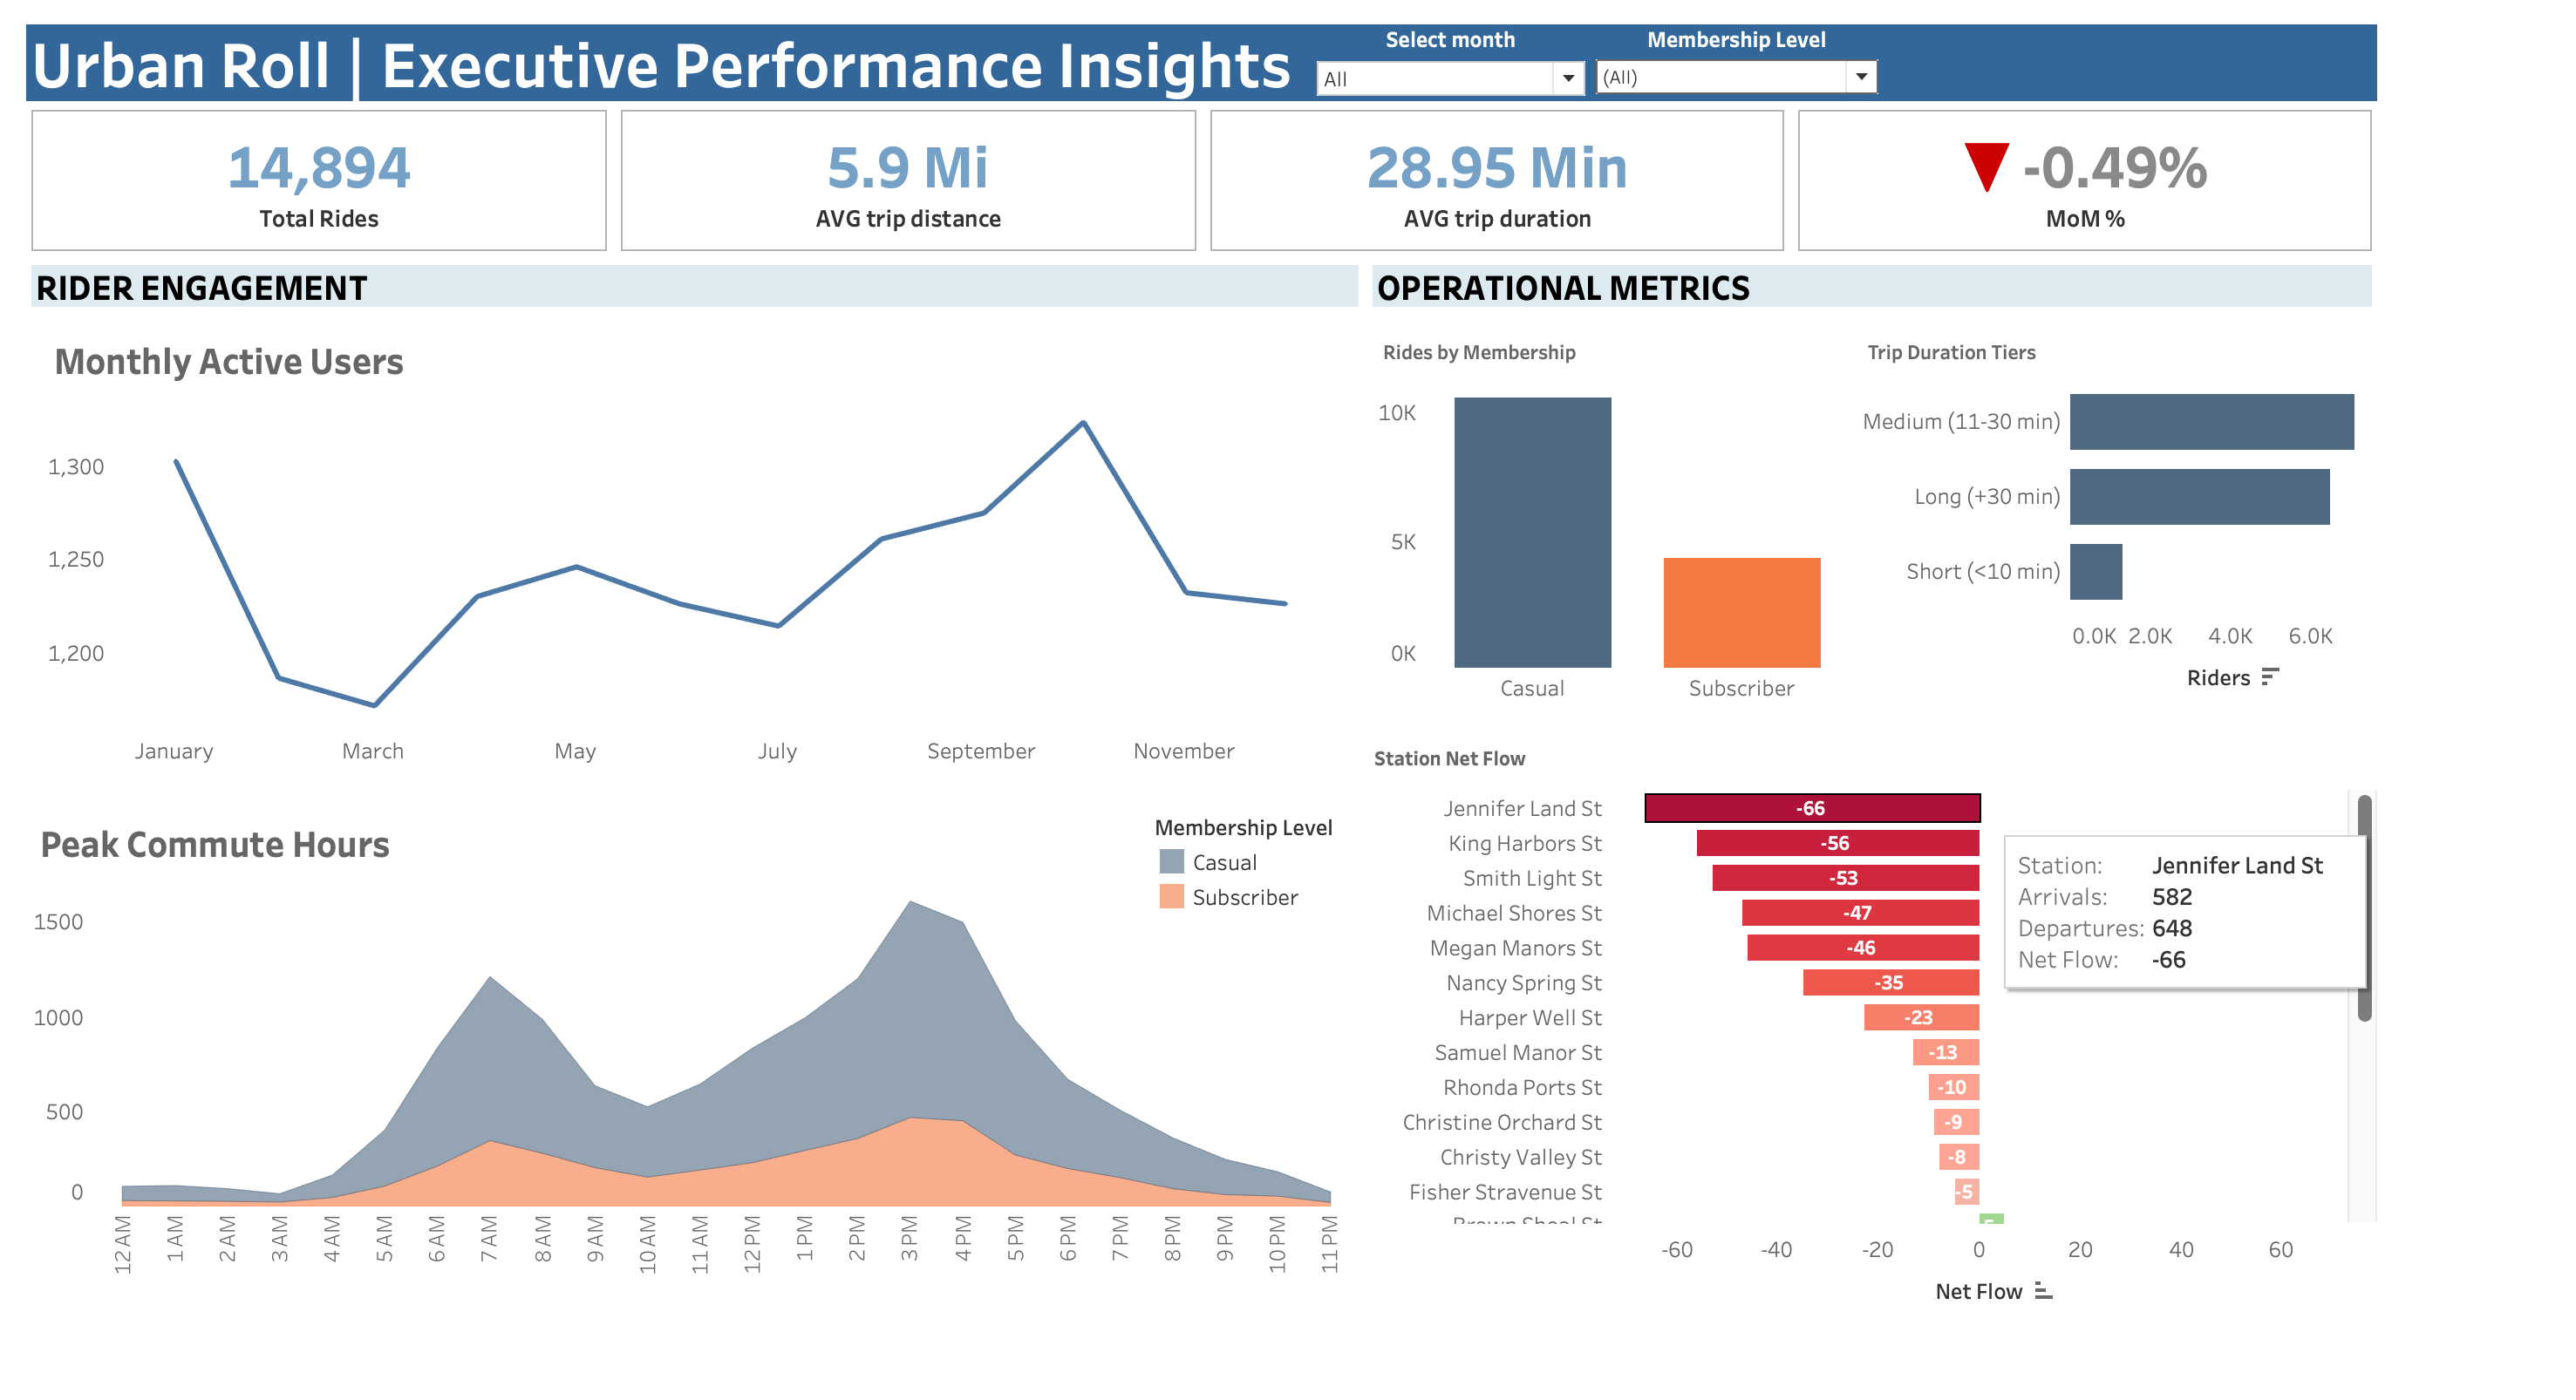

What the dashboard file says about the page in this screenshot:
{"tool":"tableau","page":{"name":"Dashboard 1","canvas":[1366,768],"ordinal":0},"visuals":[{"type":"text","box":[8,8,1350,46]},{"type":"parameter","param":"[Parameters].[Start Time Parameter]","box":[746,9,160,44]},{"type":"filter","title":"Rides by Membership","param":"[federated.0ieumqb0jvga1g113e7yd0zhxyhf].[none:membership_level:nk]","box":[906,9,168,43]},{"type":"worksheet","title":"KPI - Total Rides","mark":"Automatic","box":[8,54,338,89]},{"type":"worksheet","title":"KPI - Avg Distance ","mark":"Automatic","box":[346,54,338,89]},{"type":"worksheet","title":"KPI - Avg Duration","mark":"Automatic","box":[684,54,337,89]},{"type":"worksheet","title":"MoM %","mark":"Automatic","box":[1021,54,337,89]},{"type":"text","box":[8,142.9,769.2,32.3]},{"type":"text","box":[777.2,142.9,580.8,32.3]},{"type":"worksheet","title":"Monthly Active Users","mark":"Automatic","rows":["user_id"],"cols":["start_time"],"box":[9,176.2,767.2,276.4]},{"type":"worksheet","title":"Rides by Membership","mark":"Automatic","rows":["ride_id"],"cols":["membership_level"],"box":[779.2,177.2,278,233.8]},{"type":"worksheet","title":"Trip Duration Tiers","mark":"Automatic","rows":["Calculation_1544285127233537"],"cols":["user_id"],"box":[1057.2,177.2,298.8,233.8]},{"type":"worksheet","title":"Station Net Flow","mark":"Automatic","rows":["station_name"],"cols":["net_flow"],"box":[777.2,413,580.8,347]},{"type":"worksheet","title":"Peak Commute Hours","mark":"Area","rows":["ride_id"],"cols":["start_time"],"box":[9,452.6,767.2,306.4]},{"type":"legend","title":"Peak Commute Hours","param":"[federated.0ieumqb0jvga1g113e7yd0zhxyhf].[none:membership_level:nk]","box":[656,461,110,58]}]}

Visuals, with their boxes on the page's 1366x768 design canvas (x1, y1, x2, y2). These are canvas units, not pixel positions in the 2576x1400 screenshot, which may show the page scaled, cropped or inside an application window:
text: <region>8, 8, 1358, 54</region>
parameter: <region>746, 9, 906, 53</region>
"Rides by Membership" filter: <region>906, 9, 1074, 52</region>
"KPI - Total Rides" worksheet: <region>8, 54, 346, 143</region>
"KPI - Avg Distance " worksheet: <region>346, 54, 684, 143</region>
"KPI - Avg Duration" worksheet: <region>684, 54, 1021, 143</region>
"MoM %" worksheet: <region>1021, 54, 1358, 143</region>
text: <region>8, 143, 777, 175</region>
text: <region>777, 143, 1358, 175</region>
"Monthly Active Users" worksheet: <region>9, 176, 776, 453</region>
"Rides by Membership" worksheet: <region>779, 177, 1057, 411</region>
"Trip Duration Tiers" worksheet: <region>1057, 177, 1356, 411</region>
"Station Net Flow" worksheet: <region>777, 413, 1358, 760</region>
"Peak Commute Hours" worksheet (Area marks): <region>9, 453, 776, 759</region>
"Peak Commute Hours" legend: <region>656, 461, 766, 519</region>
